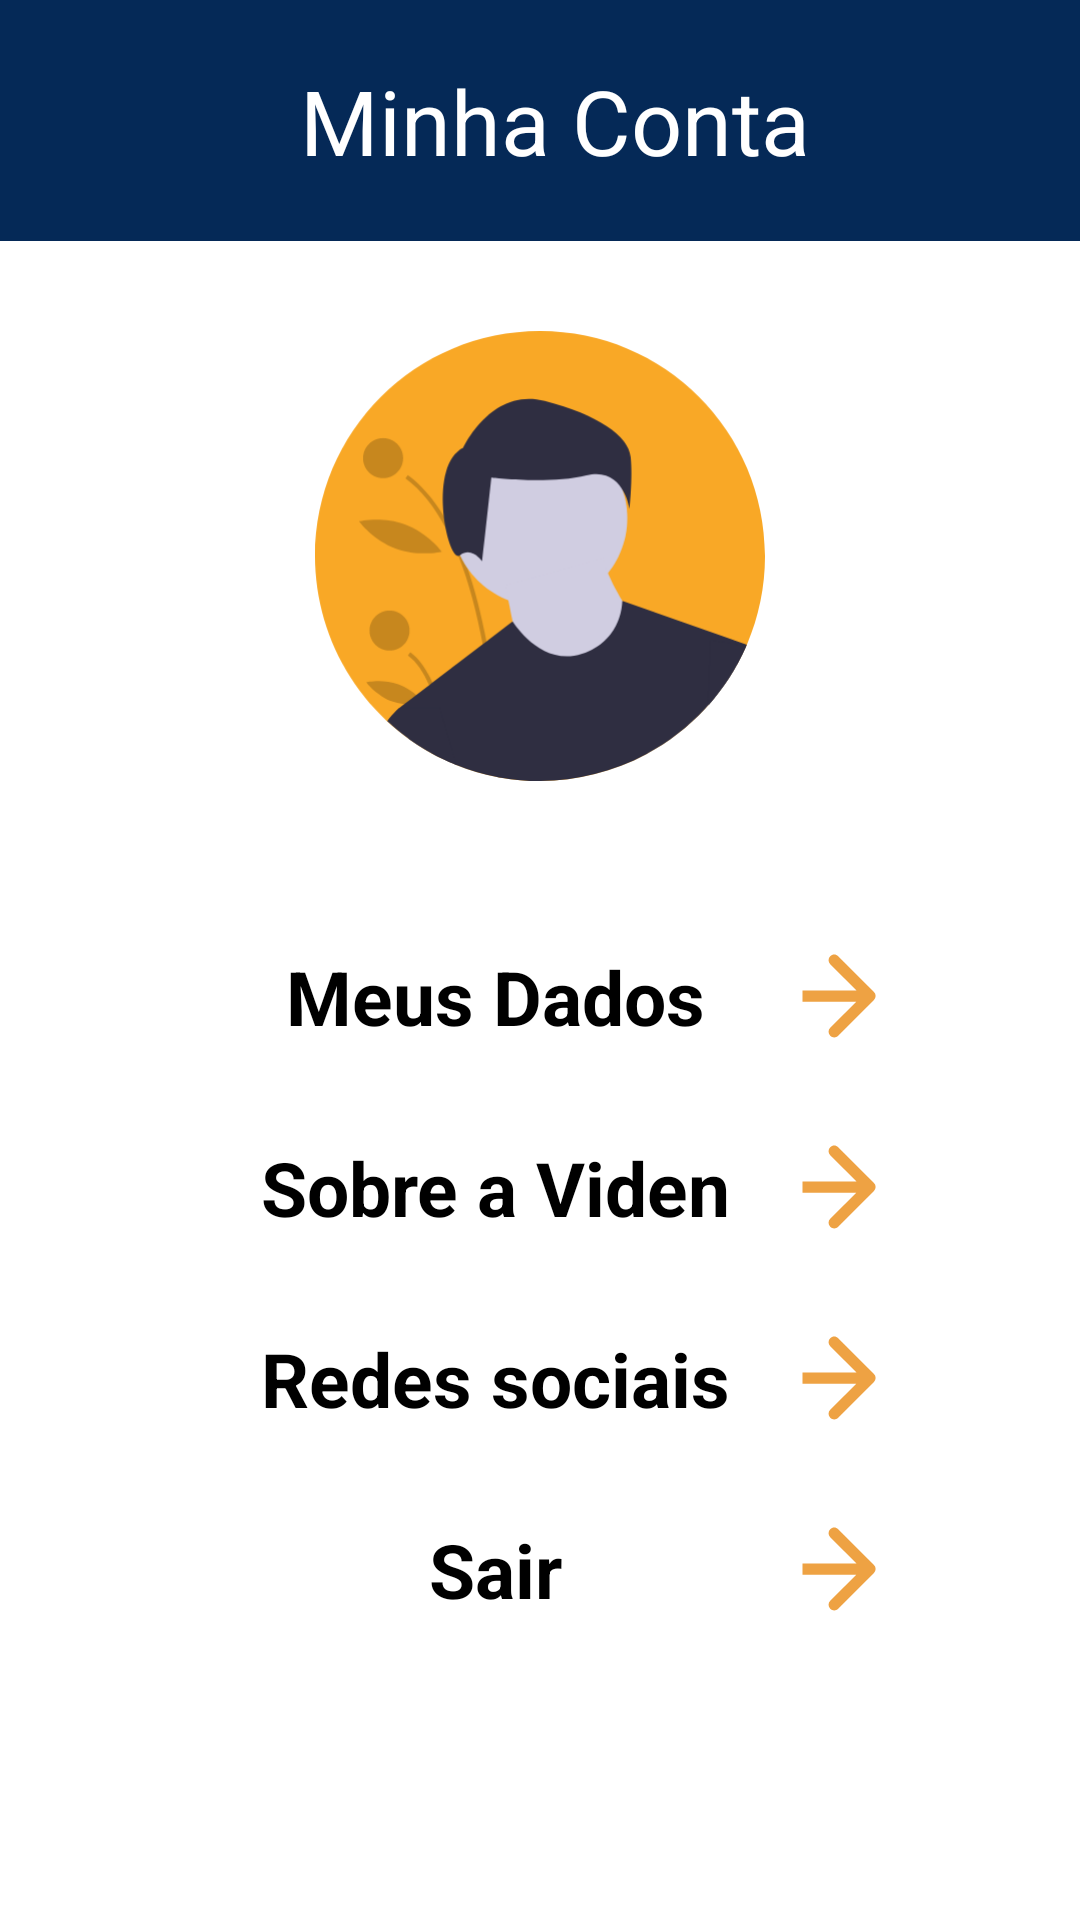

Icon click points for this 1080 x 1920 phone screenshot, format point (x, y):
ir amarelo: point (839, 996), point (839, 1187), point (839, 1378), point (839, 1569)
